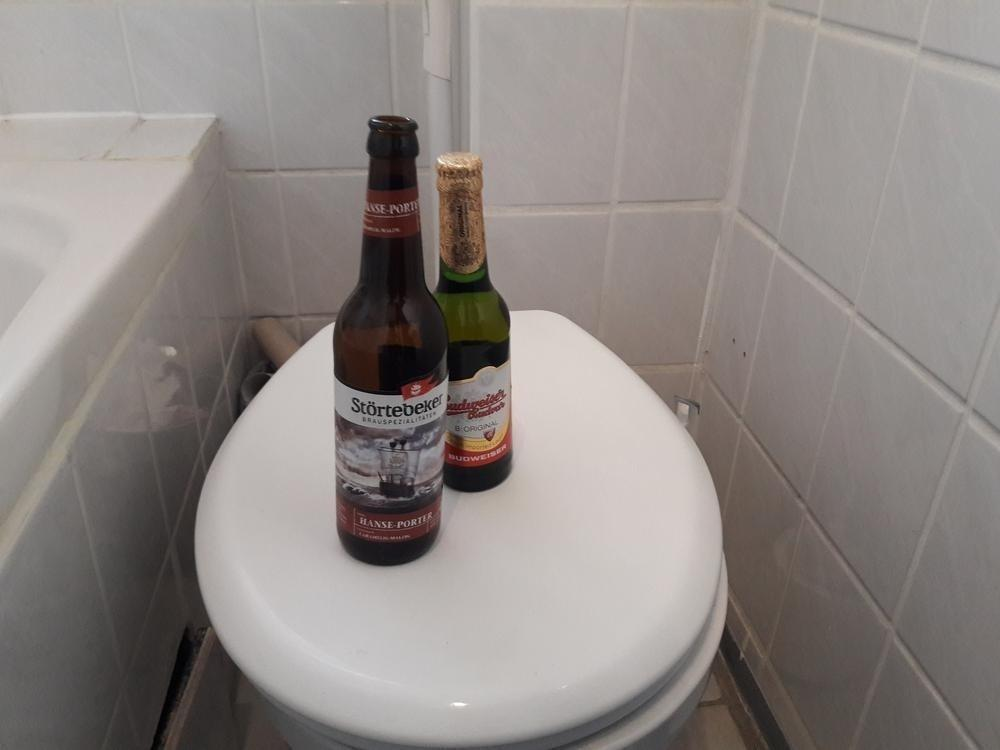bottle-glass: (331, 113, 449, 567), (424, 150, 515, 495)
